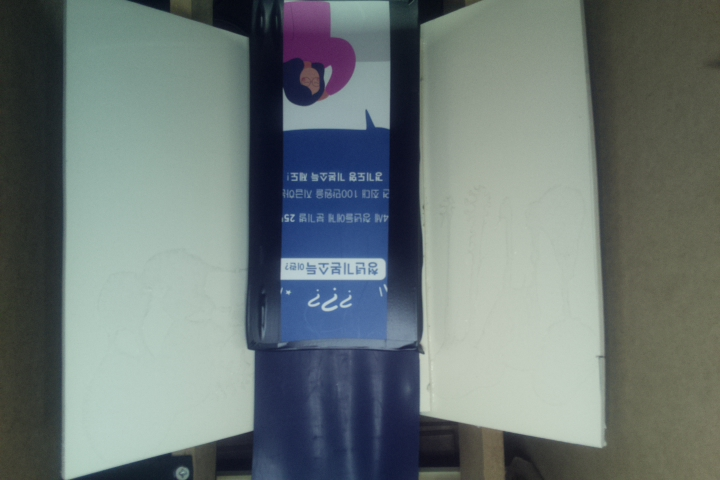book: (245, 1, 423, 353)
